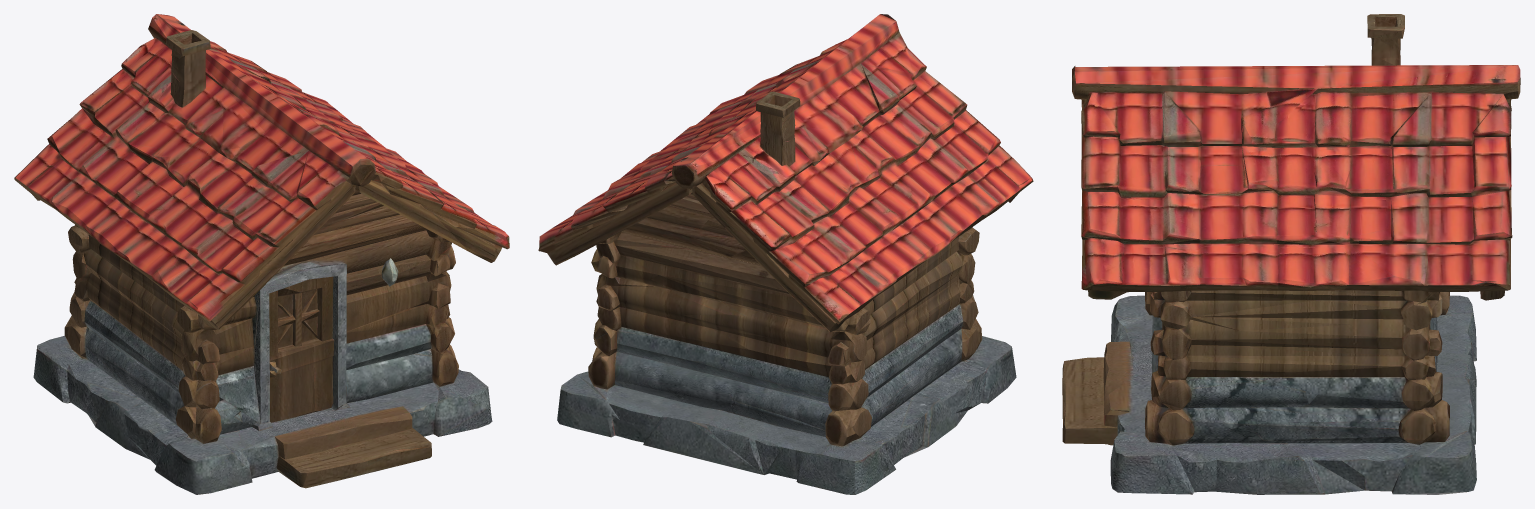
File: cabin.glb
3 renders of one model, left to right at view 1: azimuth 30°, elevation 25°; view 2: azimuth 150°, elevation 25°; view 3: azimuth 270°, elevation 25°, orthographic. The views are drawn at different scales.
Size of the model in its own units: 1.65 by 1.71 by 1.9.
1 material, 1 textured.
